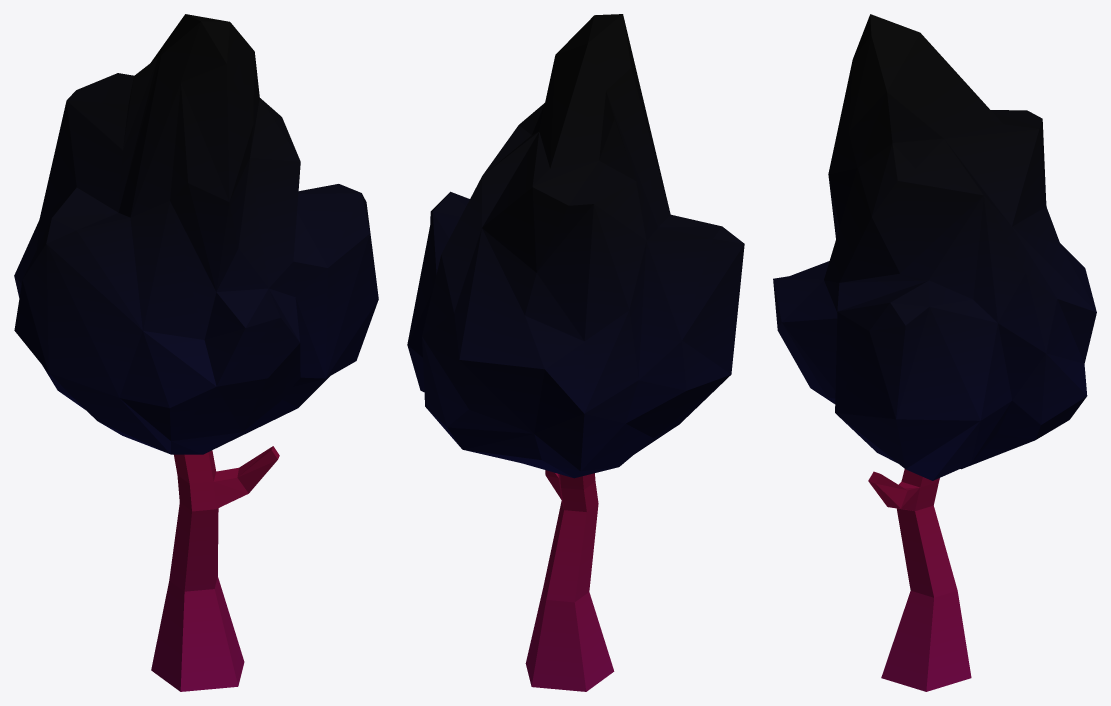
The model's file is SM_Tree_01_fbx.fbx.
3 renders of one model, left to right at view 1: azimuth 30°, elevation 25°; view 2: azimuth 150°, elevation 25°; view 3: azimuth 270°, elevation 25°, orthographic. The views are drawn at different scales.
Parts seen in each view (by area): view 1: SM_Tree_01; view 2: SM_Tree_01; view 3: SM_Tree_01.
Boxes of the visible parts, <box> form: SM_Tree_01: <box>14,14,378,691</box>; SM_Tree_01: <box>407,14,744,691</box>; SM_Tree_01: <box>773,14,1096,691</box>.
Size of the model in its own units: 318 by 283 by 621.
